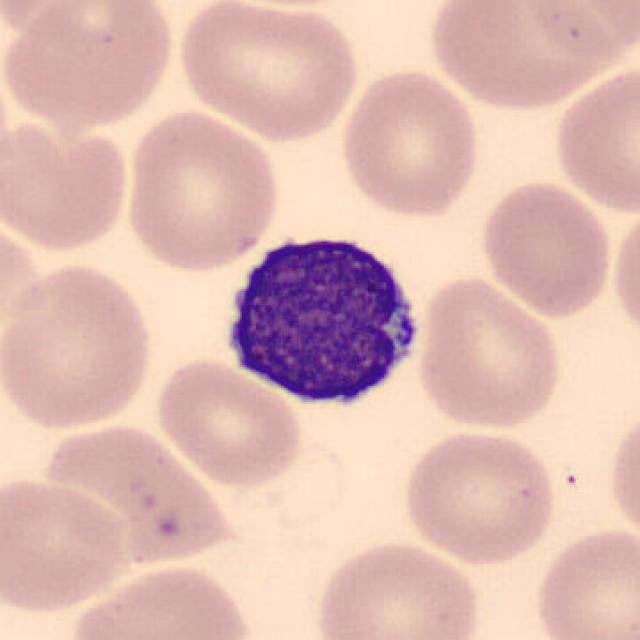Lymphocyte: (208, 218, 430, 418)
RBC: (34, 420, 238, 570), (0, 258, 158, 436), (119, 106, 285, 275), (170, 0, 362, 143), (412, 273, 566, 434), (0, 0, 180, 134), (422, 0, 630, 115), (336, 66, 484, 220), (398, 427, 558, 566), (212, 427, 358, 573), (151, 354, 306, 490), (477, 176, 615, 321), (0, 471, 135, 617), (2, 113, 135, 257), (310, 536, 486, 640), (66, 559, 256, 640), (550, 62, 638, 217), (529, 523, 638, 640), (517, 0, 640, 67), (604, 406, 640, 548), (0, 0, 91, 51), (608, 204, 640, 346)
